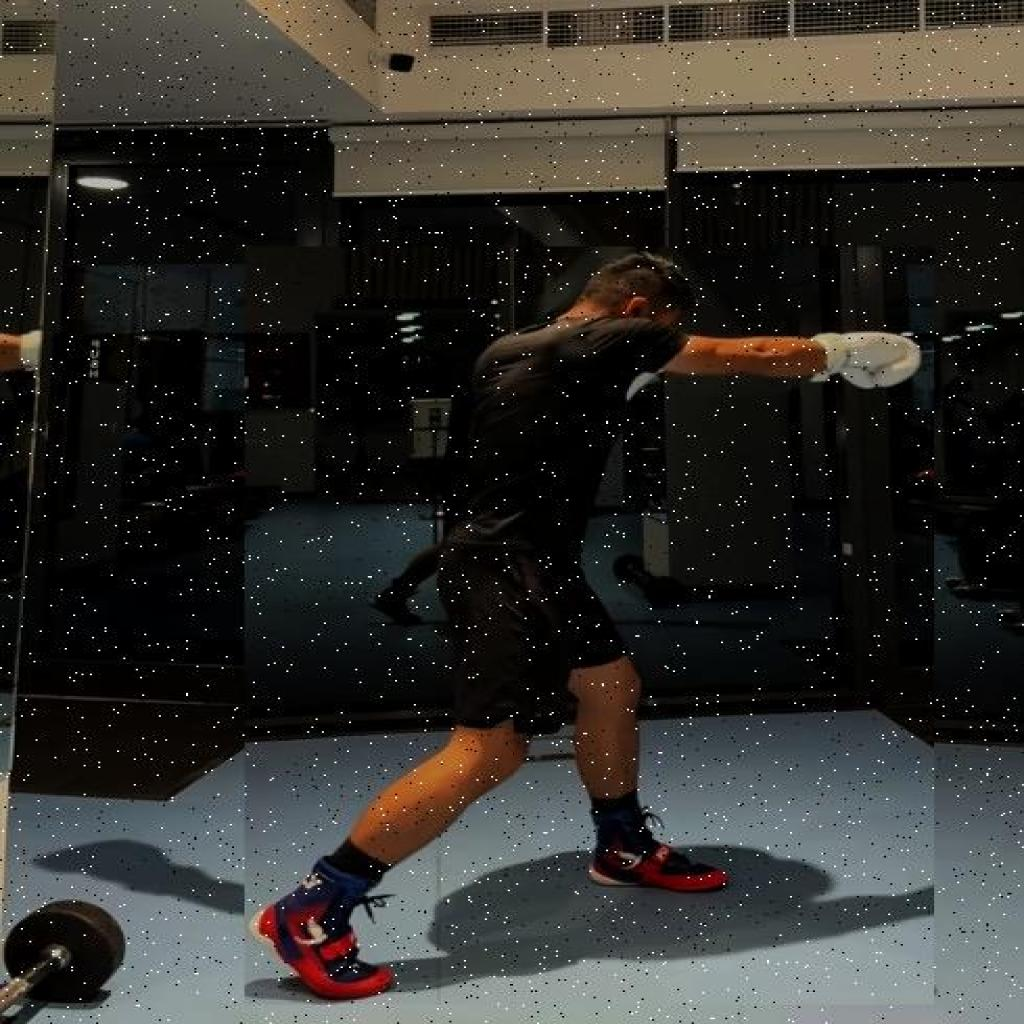cross: (245, 246, 934, 1004)
